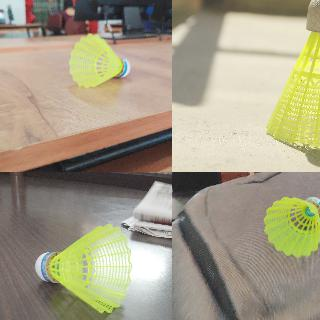shuttlecock: (35, 223, 131, 313), (266, 0, 319, 149), (263, 196, 319, 259), (68, 34, 130, 88)
